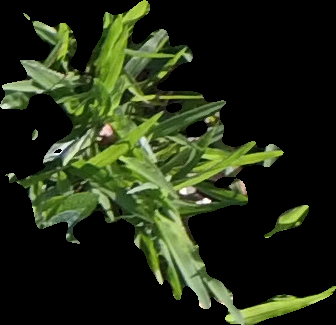grass: (2, 1, 333, 324)
